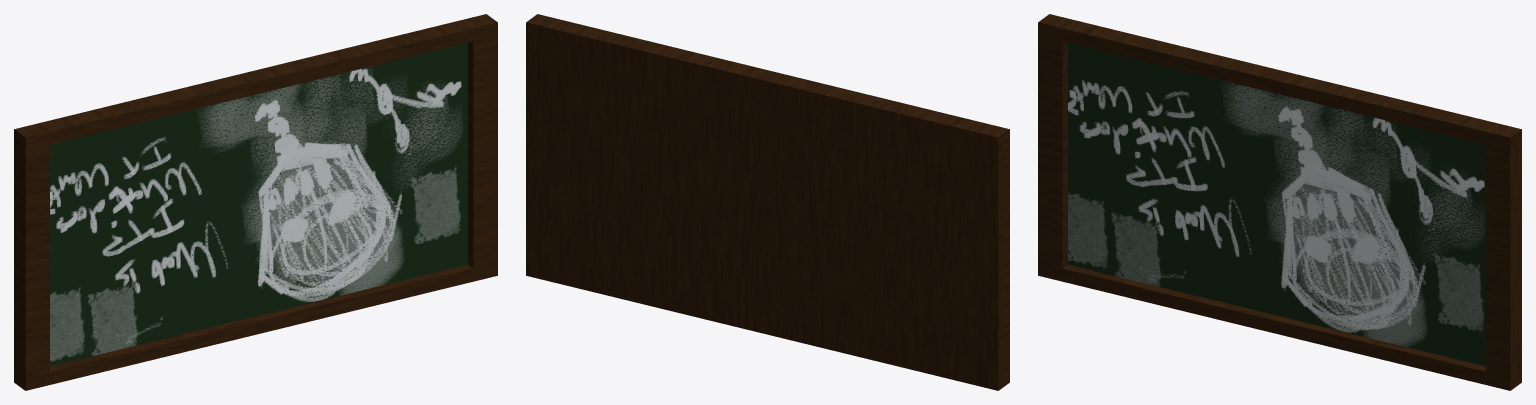
Rendered from Chalkboards.fbx.
3 renders of one model, left to right at view 1: azimuth 30°, elevation 25°; view 2: azimuth 150°, elevation 25°; view 3: azimuth 330°, elevation 25°, orthographic.
Visible parts, largest first — view 1: Chalkboard.001; view 2: Chalkboard.001; view 3: Chalkboard.001.
Boxes of the visible parts, bbox=[...] form: Chalkboard.001: bbox=[14, 14, 497, 390]; Chalkboard.001: bbox=[526, 14, 1009, 390]; Chalkboard.001: bbox=[1038, 14, 1521, 390].
Size of the model in its own units: 801 by 411 by 33.66.
